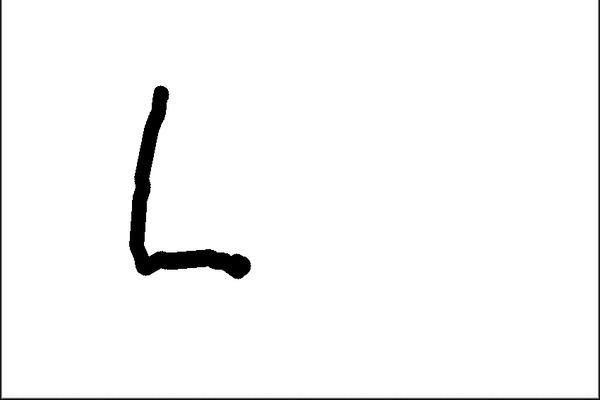L: (122, 79, 256, 284)
